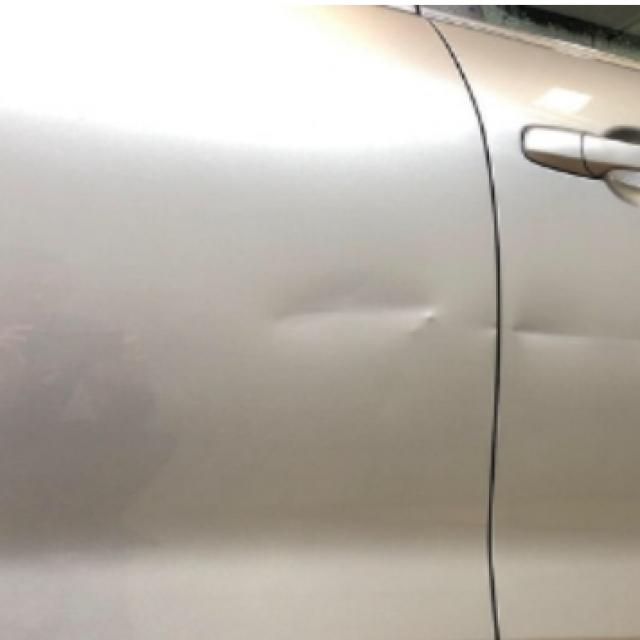dents: (240, 296, 488, 365), (512, 310, 616, 374)
